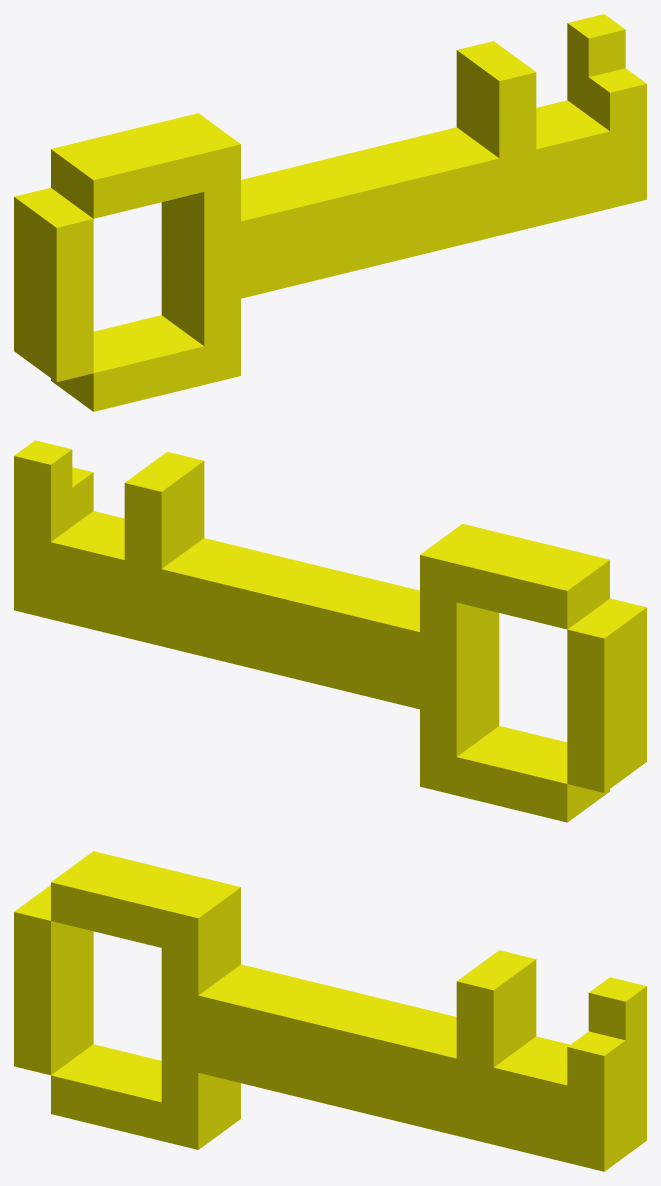
The model's file is key.gltf.
3 views of the same model, one above another, from view 1: azimuth 30°, elevation 25°; view 2: azimuth 150°, elevation 25°; view 3: azimuth 330°, elevation 25° (orthographic).
Parts seen in each view (by area): view 1: Layer.1; view 2: Layer.1; view 3: Layer.1.
Part boxes in pixels (x1,y1,x2,y2): Layer.1: [14, 14, 646, 411]; Layer.1: [14, 440, 646, 822]; Layer.1: [14, 851, 646, 1171].
Bounding box in the file's own units: 16 × 6 × 2.
Materials: 1 (1 with a texture image).
